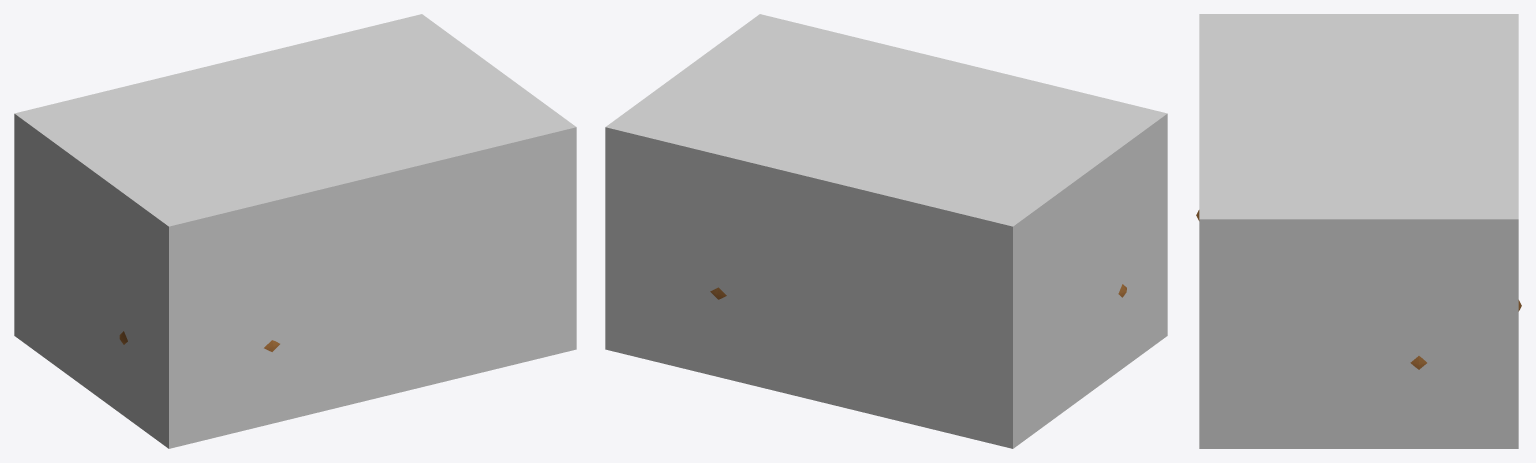
File: FMS_Crate_Basket_Fill_Bread.fbx
3 renders of one model, left to right at view 1: azimuth 30°, elevation 25°; view 2: azimuth 150°, elevation 25°; view 3: azimuth 270°, elevation 25°, orthographic. The views are drawn at different scales.
Visible parts, largest first — view 1: Basket_Fill_Bread_Col; view 2: Basket_Fill_Bread_Col; view 3: Basket_Fill_Bread_Col.
Part boxes in pixels (bbox=[...]): Basket_Fill_Bread_Col: bbox=[14, 14, 576, 448]; Basket_Fill_Bread_Col: bbox=[605, 14, 1167, 448]; Basket_Fill_Bread_Col: bbox=[1199, 14, 1518, 448].
Size of what is drawn, in the model's own units: 19.58 by 10 by 12.86.
